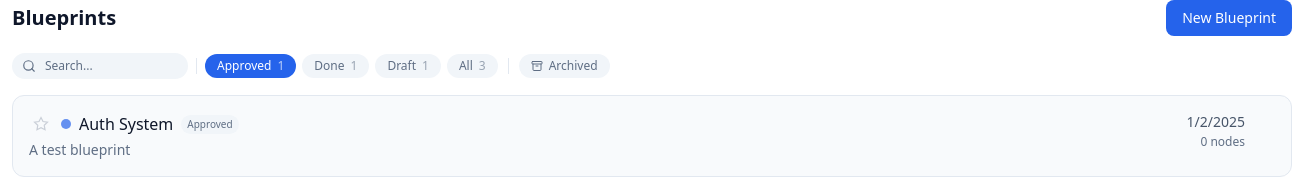
Test: BlueprintsPage › filters to show only draft blueprints
Check: the text "Auth System" is shown, box [79,112,173,136]
// Click "Draft" filter
Click the button "Draft1" at coordinates (408, 66), box [375,54,441,78]
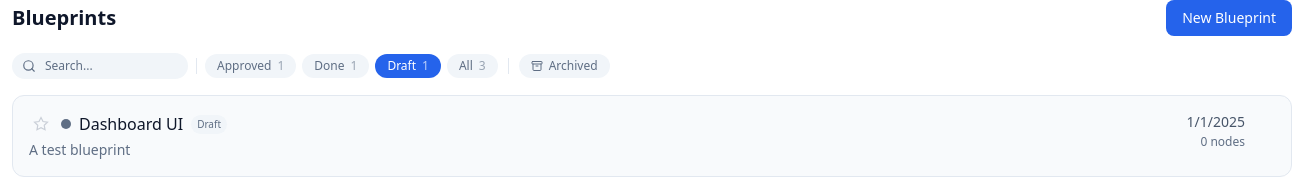
Check: the text "Dashboard UI" is shown, box [79,112,183,136]
Check: the link "Auth System" is gone
